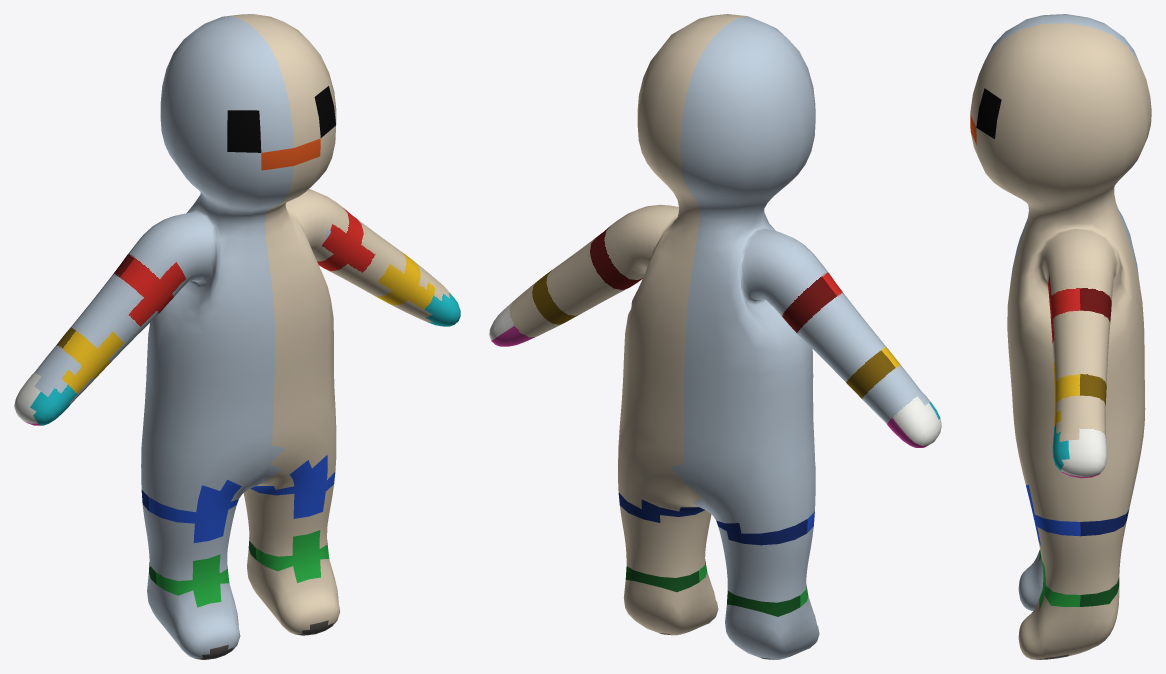
Rendered from mannequin-arms.glb.
3 views of the same model, side by side, from view 1: azimuth 30°, elevation 25°; view 2: azimuth 150°, elevation 25°; view 3: azimuth 270°, elevation 25° (orthographic). The views are drawn at different scales.
Visible parts, largest first — view 1: mannequin; view 2: mannequin; view 3: mannequin.
Part boxes in pixels (<box>): mannequin: <box>14,14,460,659</box>; mannequin: <box>489,14,941,659</box>; mannequin: <box>970,14,1151,659</box>.
Size of the model in its own units: 1.19 by 1.6 by 0.4316.
1 material, 1 textured.
